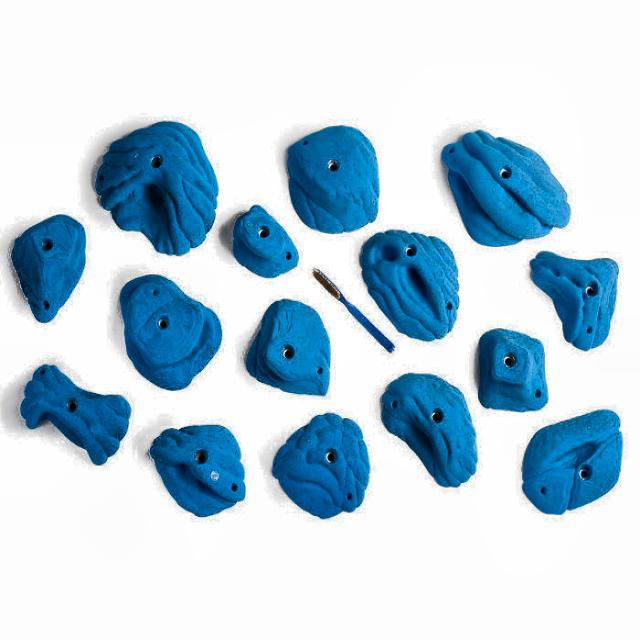Hold: (94, 120, 216, 256), (443, 124, 571, 248), (116, 273, 230, 395), (516, 400, 626, 522), (371, 372, 483, 489), (274, 409, 378, 528), (12, 369, 134, 467), (242, 294, 346, 404), (282, 122, 385, 230), (366, 228, 456, 346), (5, 207, 92, 326), (145, 421, 243, 526), (523, 245, 618, 350), (474, 332, 557, 410), (226, 194, 298, 276)
